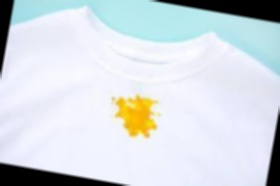mustard: (104, 91, 163, 141)
